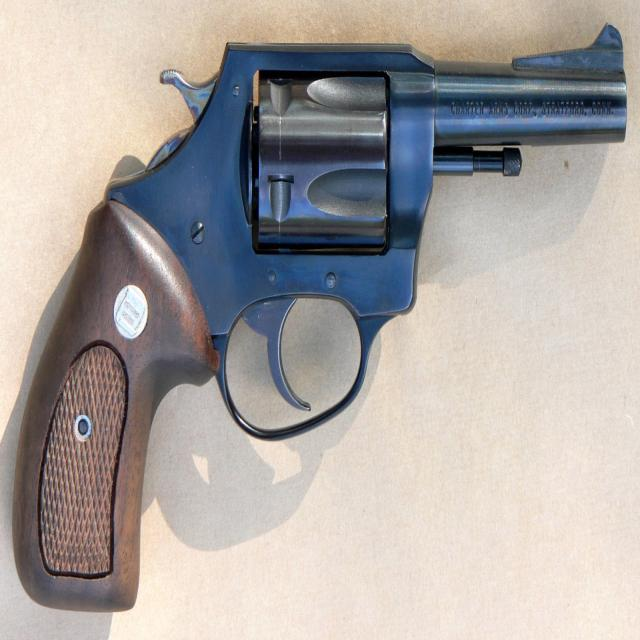Gun: (4, 18, 633, 615)
